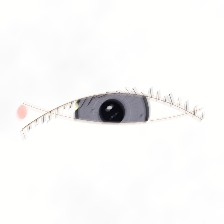pinguecula_lesion: (45, 88, 90, 124)
